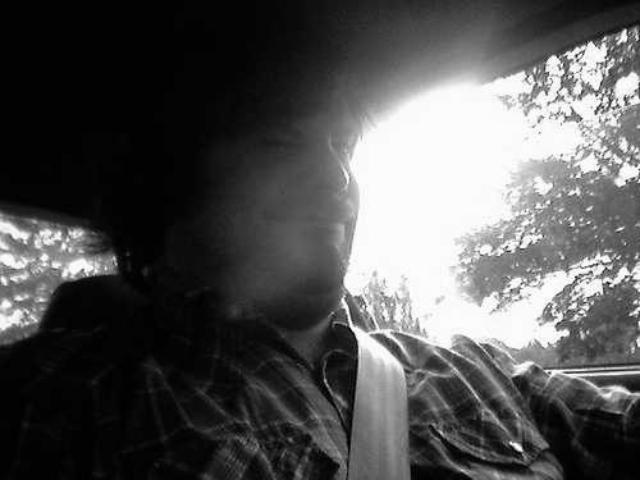Seatbelt: (338, 318, 418, 480)
